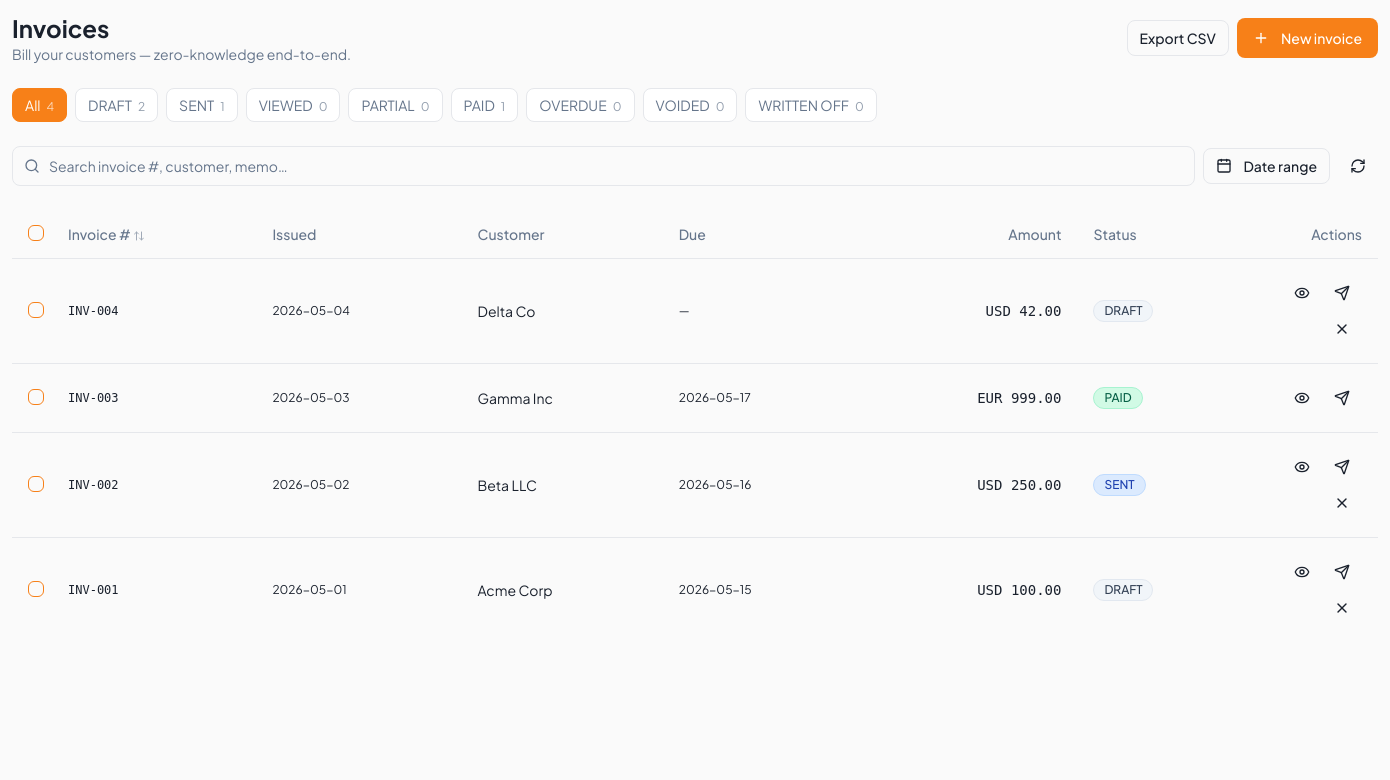
Test: Invoices page (I4) › filters rows by plaintext status (DRAFT chip narrows to two rows)
Expected: the row with test id "invoice-row" that starts with "INV-004" is shown, 12,258 -> 1378,363
// Find the DRAFT chip inside the status filter strip.
What coordinates should you click on to do the following:
click the button "DRAFT2"
I would click on:
 (117, 105)
Its box is 75,88 -> 158,122.
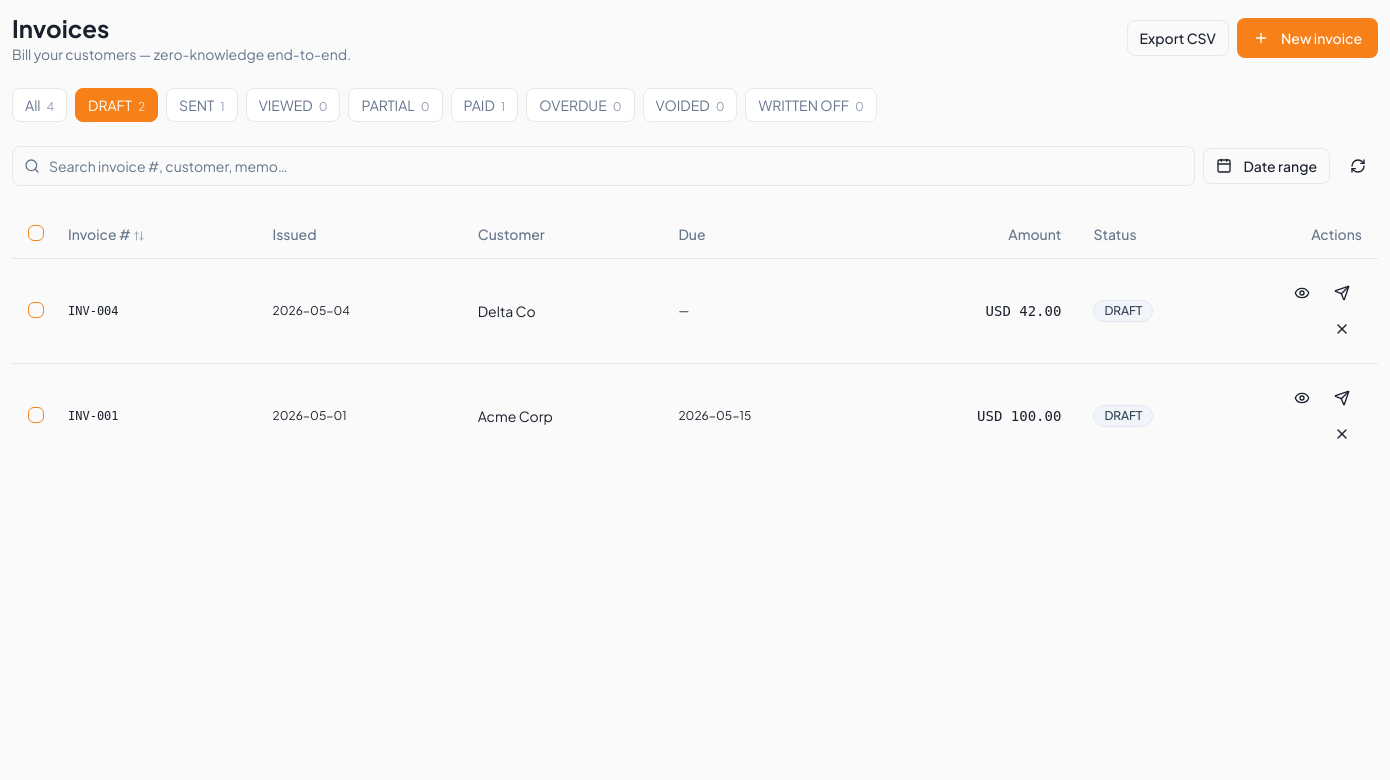
Expected: the text "Acme Corp" is shown, 462,363 -> 662,468
Expected: the number of rows with test id "invoice-row" is 2, 12,258 -> 1378,363; 12,363 -> 1378,468
Expected: the text "Beta LLC" is gone
